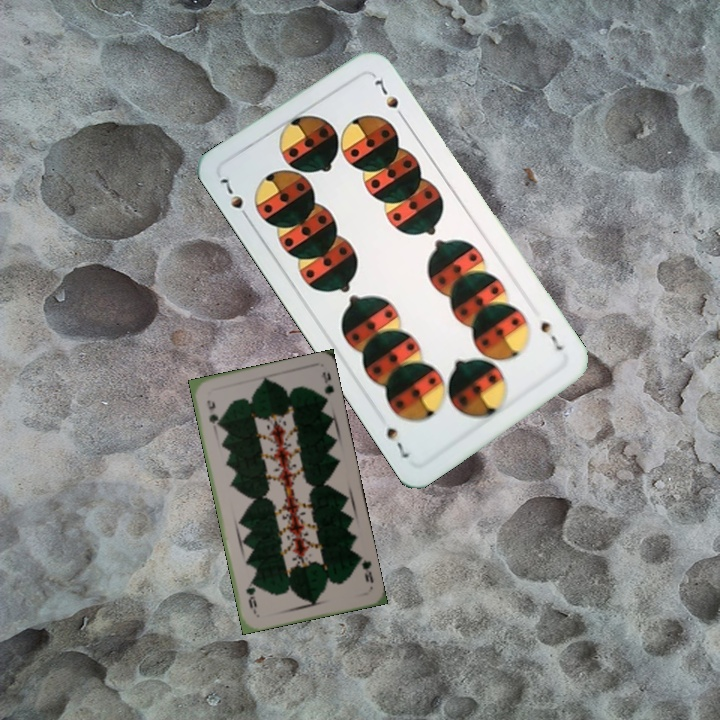G9: (354, 551, 376, 585), (203, 396, 221, 429)
S7: (216, 172, 253, 225), (536, 317, 567, 354)
